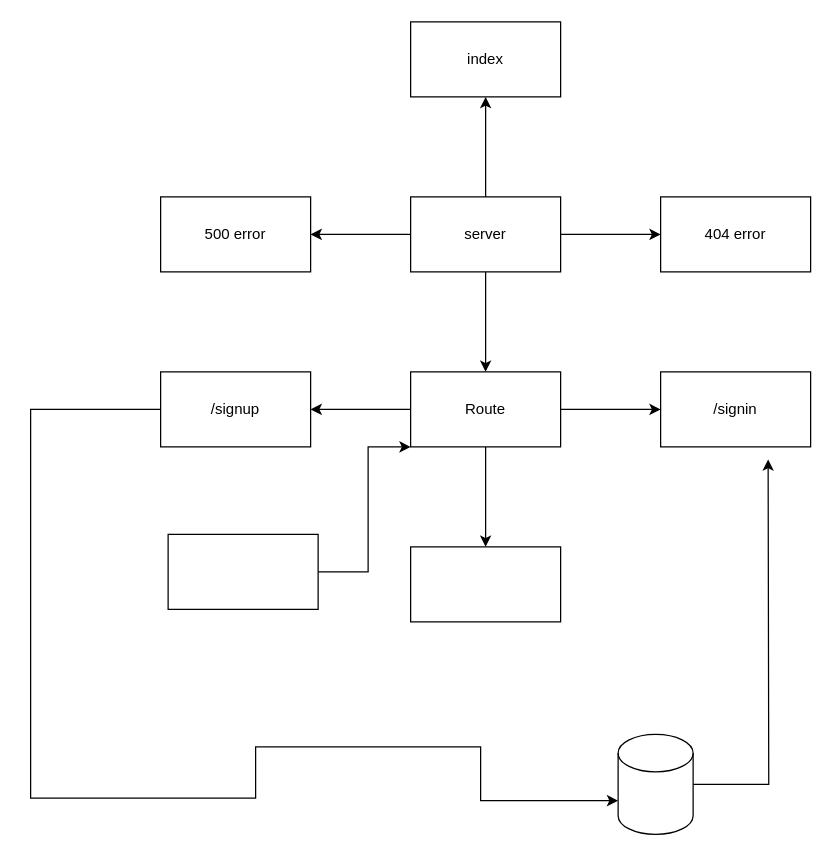
Some shapes in this 833 by 856 pixel diagram are drawn without their labels. Each missing label, with the box of its shape:
/secret: (167, 533, 318, 609)
/users: (409, 546, 561, 622)
database: (617, 733, 693, 834)
